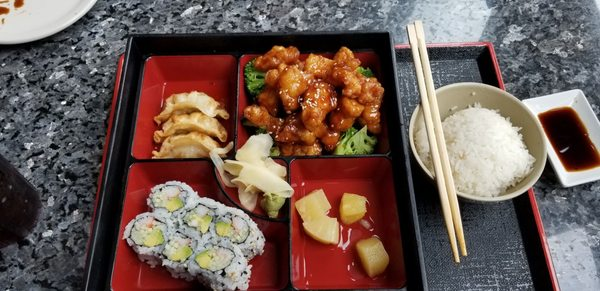curry: (333, 124, 377, 156)
salad: (409, 12, 469, 267)
sushi: (112, 163, 269, 289), (286, 155, 410, 290), (423, 82, 548, 202)
